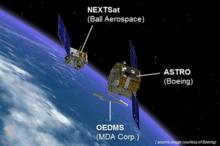antenna: (79, 24, 94, 54), (135, 71, 161, 79), (130, 69, 135, 75), (122, 61, 127, 66)
body: (107, 61, 141, 100), (63, 47, 89, 71)
solar: (57, 12, 71, 59), (131, 90, 141, 133), (128, 39, 138, 70)
